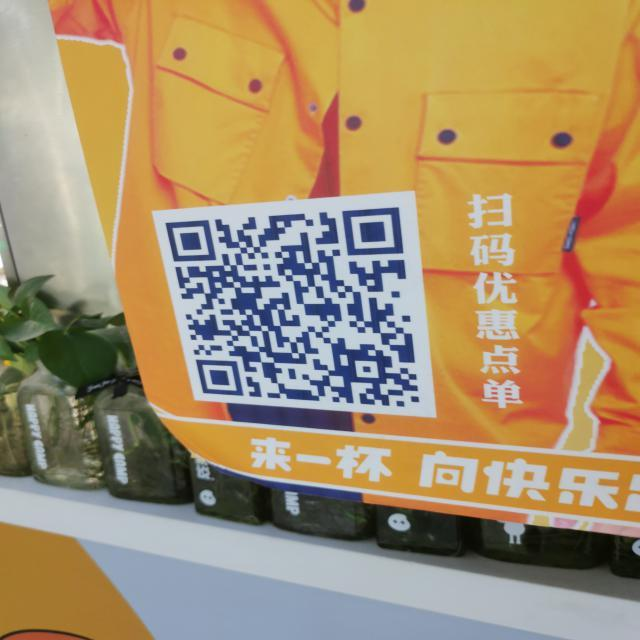qr_code: (162, 206, 421, 408)
